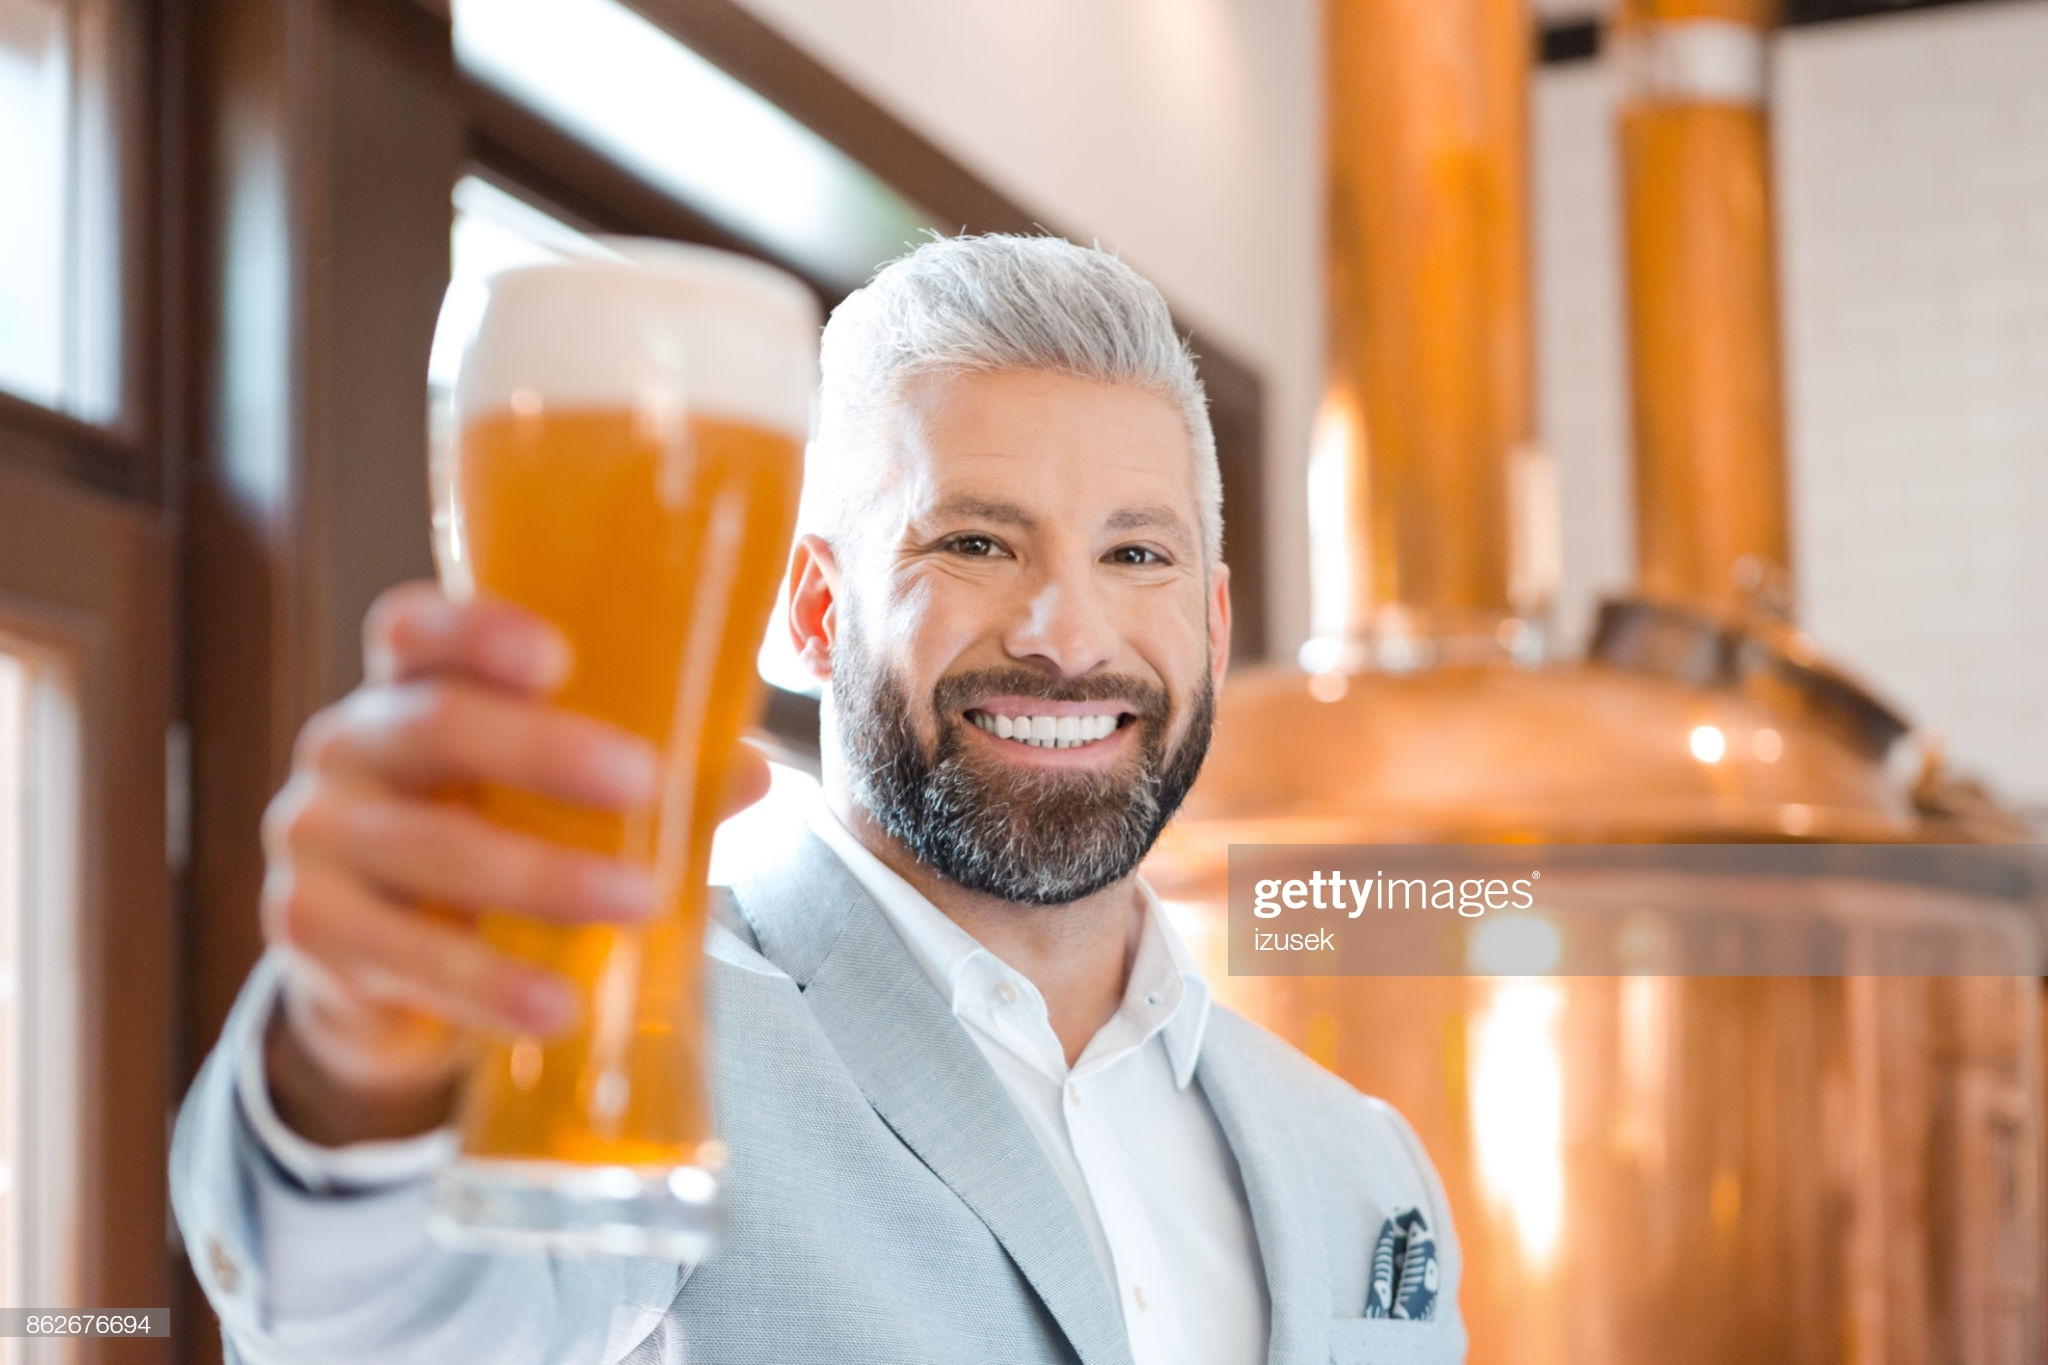glassBeer: (440, 270, 827, 1229)
